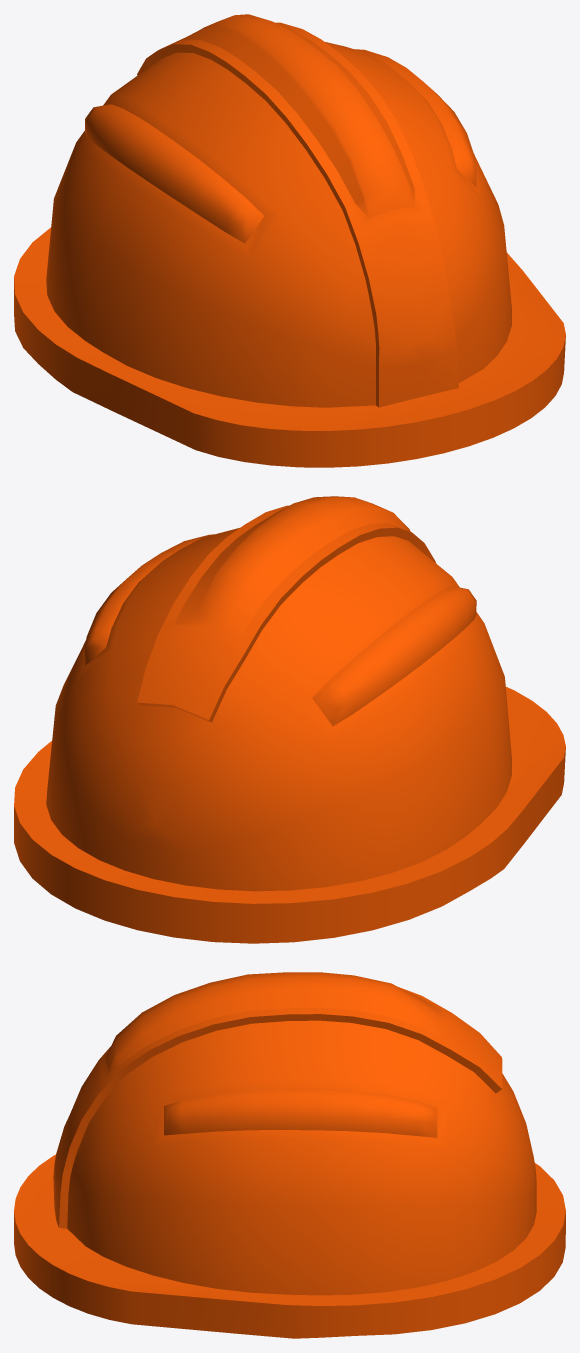
Rendered from hamlet.fbx.
The picture shows the model from 3 angles, top to bottom: view 1: azimuth 30°, elevation 25°; view 2: azimuth 150°, elevation 25°; view 3: azimuth 270°, elevation 25°; orthographic projection. The views are drawn at different scales.
Parts seen in each view (by area): view 1: Object_9; view 2: Object_9; view 3: Object_9.
Part boxes in pixels (<box>): Object_9: <box>14,14,565,467</box>; Object_9: <box>14,496,565,943</box>; Object_9: <box>14,972,565,1338</box>.
Bounding box in the file's own units: 223 × 147 × 272.
